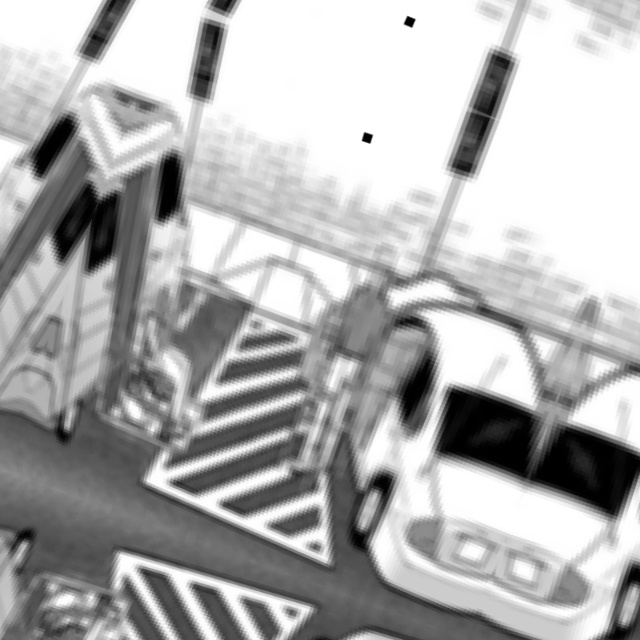ISA: (185, 23, 228, 83), (472, 58, 514, 114), (452, 113, 494, 169), (88, 0, 131, 47), (210, 0, 254, 12)
